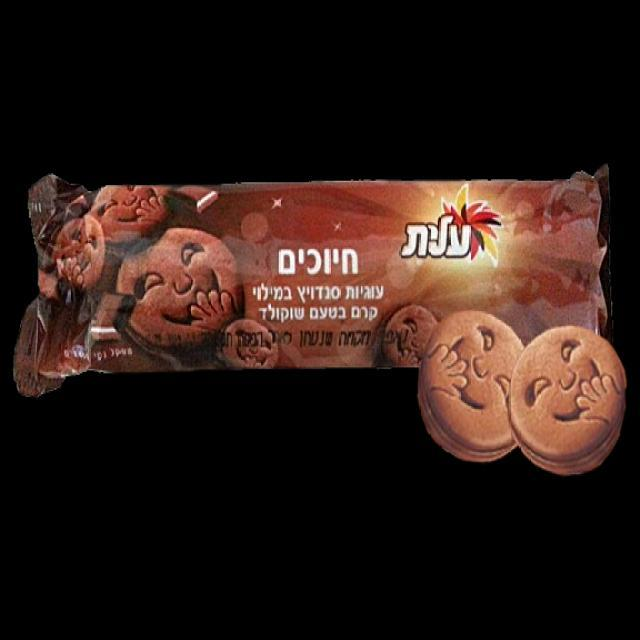Cookie: (27, 176, 608, 368), (410, 319, 626, 467)
